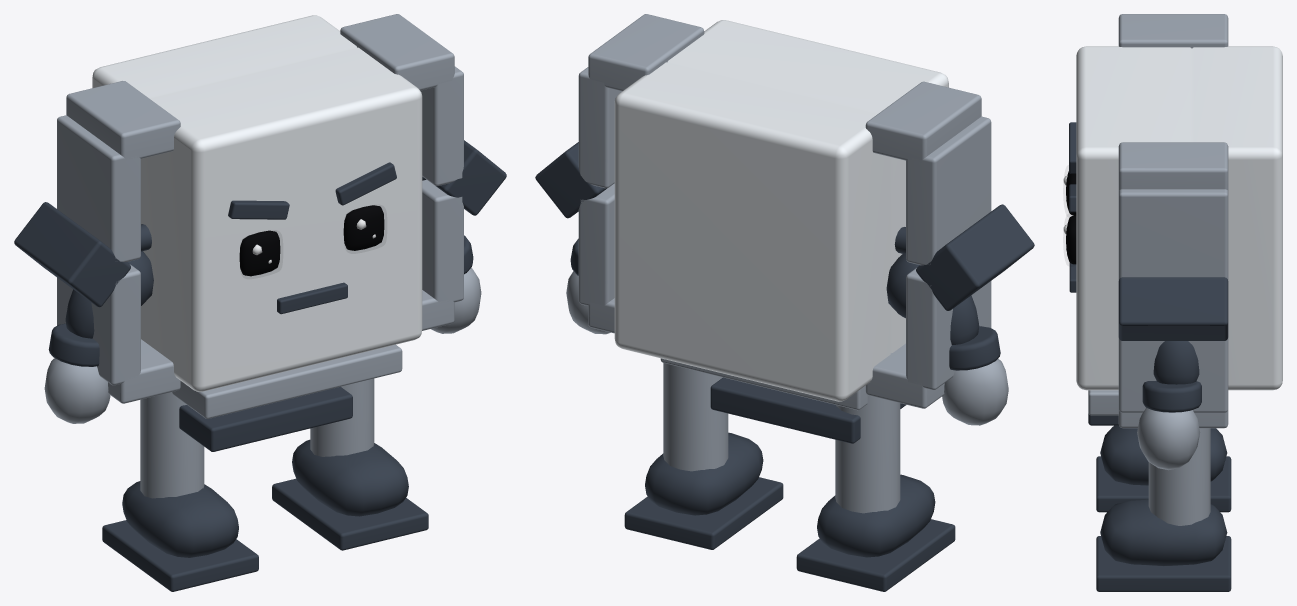
Rendered from role-braces.glb.
3 views of the same model, side by side, from view 1: azimuth 30°, elevation 25°; view 2: azimuth 150°, elevation 25°; view 3: azimuth 270°, elevation 25° (orthographic). The views are drawn at different scales.
Parts seen in each view (by area): view 1: Body, Accessory, Leg_L, Leg_R, Arm_L, Arm_R; view 2: Body, Accessory, Leg_L, Leg_R, Arm_L, Arm_R; view 3: Body, Accessory, Leg_R, Arm_R, Leg_L.
Part boxes in pixels (x1,y1,x2,y2): Body: (92, 15, 422, 451); Accessory: (14, 14, 506, 403); Leg_L: (102, 392, 258, 591); Leg_R: (272, 378, 428, 550); Arm_L: (44, 251, 153, 423); Arm_R: (431, 235, 481, 333); Body: (614, 20, 948, 443); Accessory: (535, 14, 1034, 408); Leg_L: (796, 395, 955, 591); Leg_R: (624, 363, 783, 549); Arm_L: (886, 253, 1008, 425); Arm_R: (566, 238, 610, 334); Body: (1063, 46, 1282, 425); Accessory: (1118, 14, 1228, 428); Leg_R: (1096, 428, 1231, 591); Arm_R: (1137, 341, 1201, 470); Leg_L: (1096, 425, 1231, 512).
Bounding box in the file's own units: 0.8007 × 0.801 × 0.3617.
